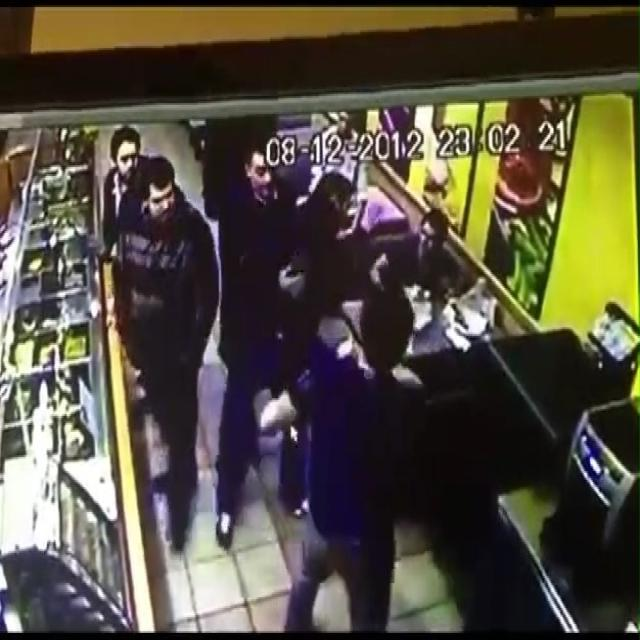fight: (261, 279, 436, 640)
